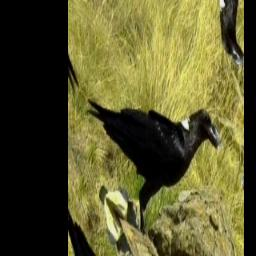Crow: (75, 0, 225, 256)
